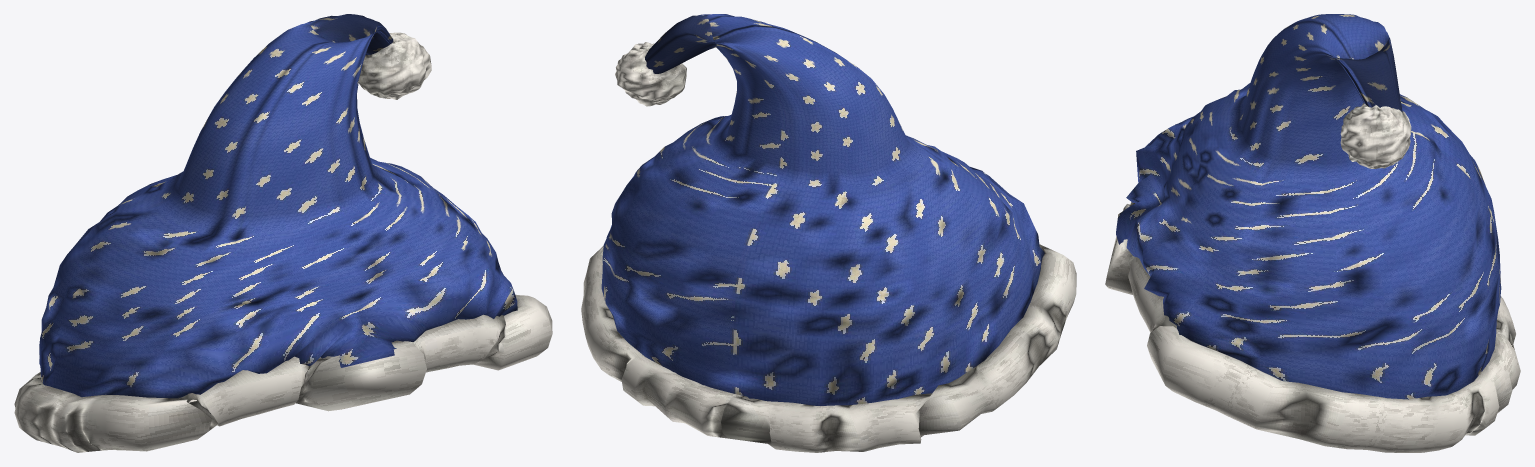
File: nightcap.glb
3 views of the same model, side by side, from view 1: azimuth 30°, elevation 25°; view 2: azimuth 150°, elevation 25°; view 3: azimuth 270°, elevation 25° (orthographic). The views are drawn at different scales.
Parts seen in each view (by area): view 1: nightcap_cap, nightcap_cuff, nightcap_pom; view 2: nightcap_cap, nightcap_cuff, nightcap_pom; view 3: nightcap_cap, nightcap_cuff, nightcap_pom.
Boxes of the visible parts, x1,y1,x2,y2 form: nightcap_cap: (39,14,517,398); nightcap_cuff: (14,294,552,452); nightcap_pom: (358,32,431,99); nightcap_cap: (601,14,1044,405); nightcap_cuff: (581,244,1076,452); nightcap_pom: (615,42,686,106); nightcap_cap: (1116,14,1501,399); nightcap_cuff: (1105,202,1520,452); nightcap_pom: (1340,103,1411,168).
Size of the model in its own units: 34.06 by 25.71 by 25.29.
1 material, 1 textured.
